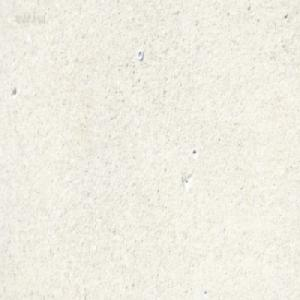Washer: (137, 50, 144, 61)
